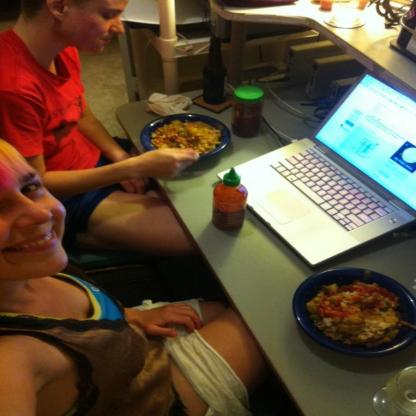board: (216, 70, 416, 268), (214, 167, 247, 234), (233, 87, 264, 140), (203, 36, 226, 103)
